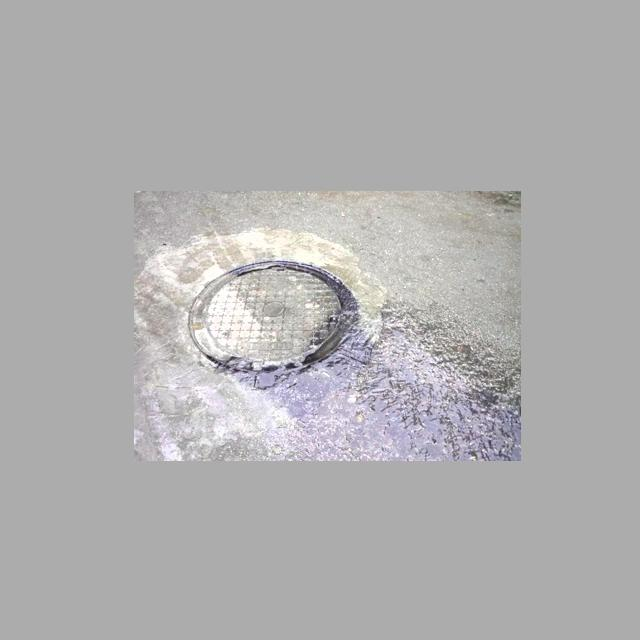circle: (175, 242, 383, 401)
